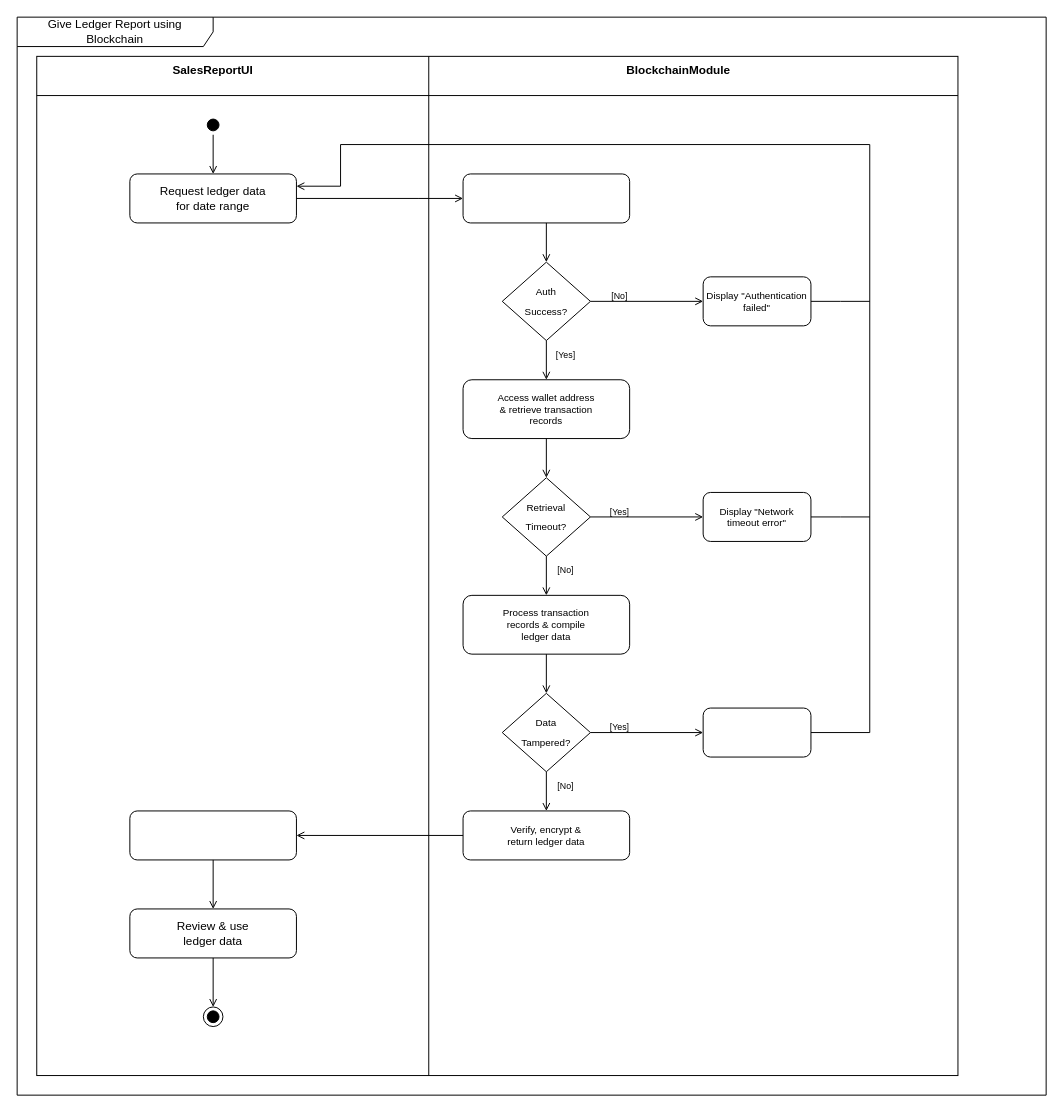
This 1063x1112 diagram has some shape labels left out. The centre of each missing label's shape, as x and y in pixels:
Display "Data integrity failed": [756,732]
Display verified ledger report: [212,835]
Verify request authenticity: [546,198]
